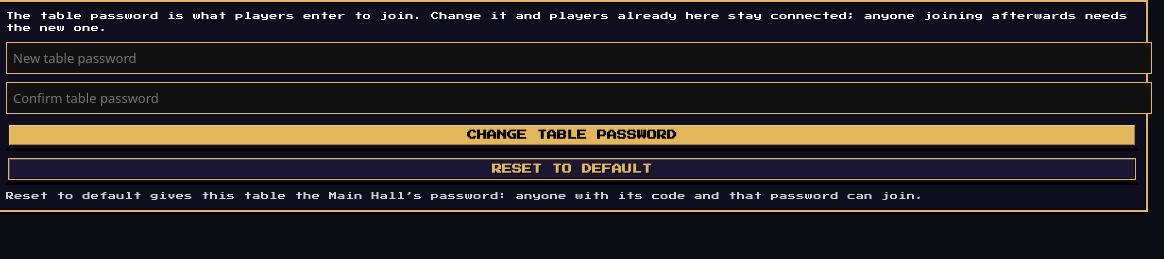
Test: TablePasswordControl - Characterization Tests › Password Input Changes › should clear password error when typing in new password input
Note: First trigger an error
Click the button "Change table password".
click(572, 135)  # box [6,122,1138,148]
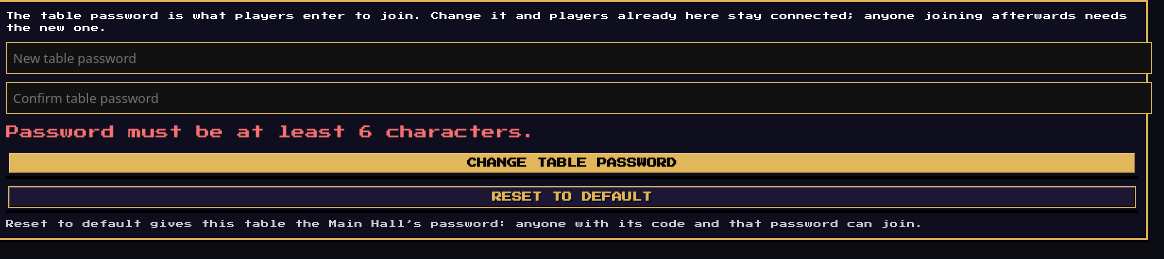
Check: the text "Password must be at least 6 characters." is shown, box [6,125,536,139]
Note: Now type in the new password input
Type "a" into the password field with placeholder "New table password".
click(579, 58); type("a")  # box [6,42,1152,74]
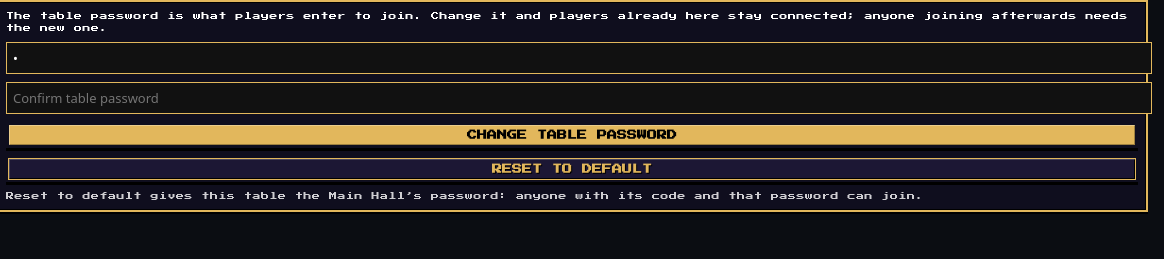
Check: the text "Password must be at least 6 characters." is gone
